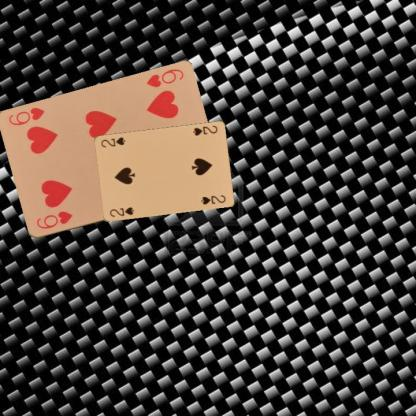2s: (107, 204, 135, 219), (190, 123, 218, 137)
6h: (143, 66, 185, 90), (34, 208, 74, 230)
